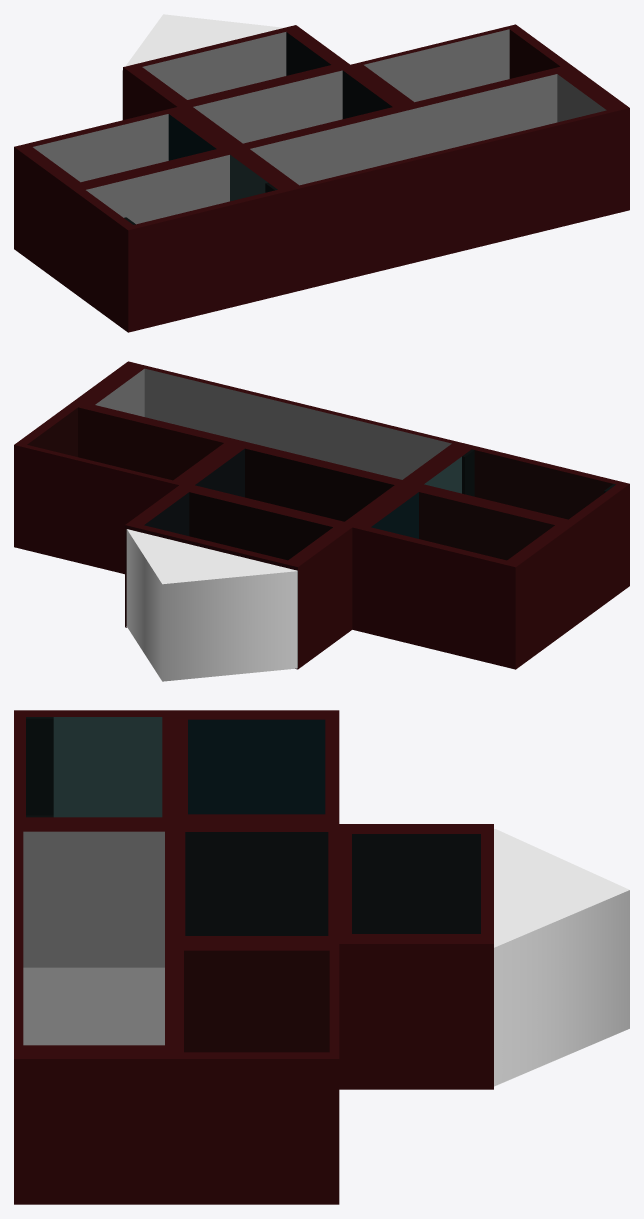
File: Doll_pCube11coba.FBX
3 renders of one model, top to bottom at view 1: azimuth 30°, elevation 25°; view 2: azimuth 150°, elevation 25°; view 3: azimuth 270°, elevation 25°, orthographic. The views are drawn at different scales.
Parts seen in each view (by area): view 1: Doll_pCube11; view 2: Doll_pCube11; view 3: Doll_pCube11.
Part boxes in pixels (bbox=[...]): Doll_pCube11: bbox=[14, 14, 629, 332]; Doll_pCube11: bbox=[14, 361, 629, 681]; Doll_pCube11: bbox=[14, 710, 629, 1204].
Size of the model in its own units: 14.9 by 11.12 by 2.9.
